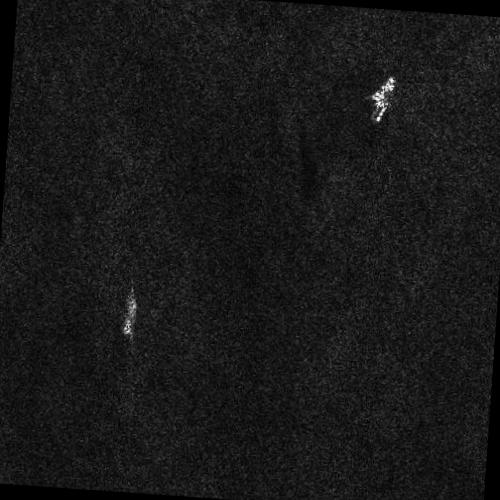ship: (370, 75, 394, 123), (124, 286, 137, 337)
